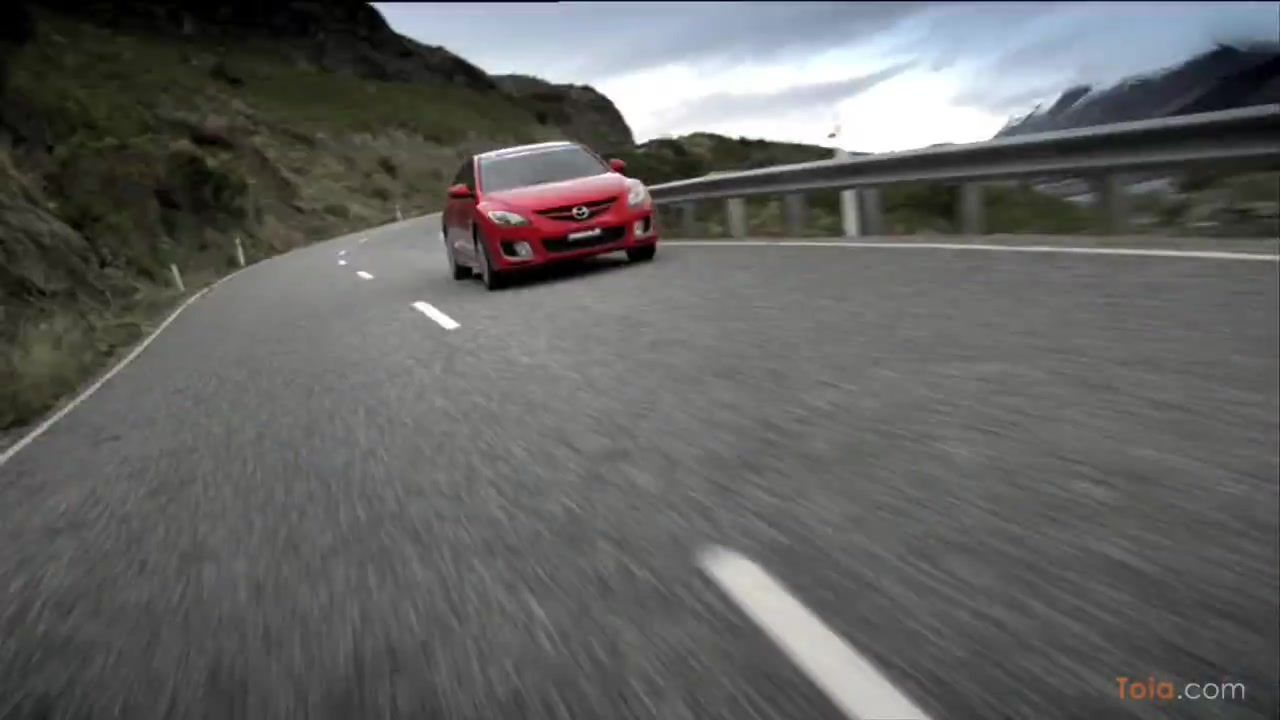car: (440, 139, 659, 290)
